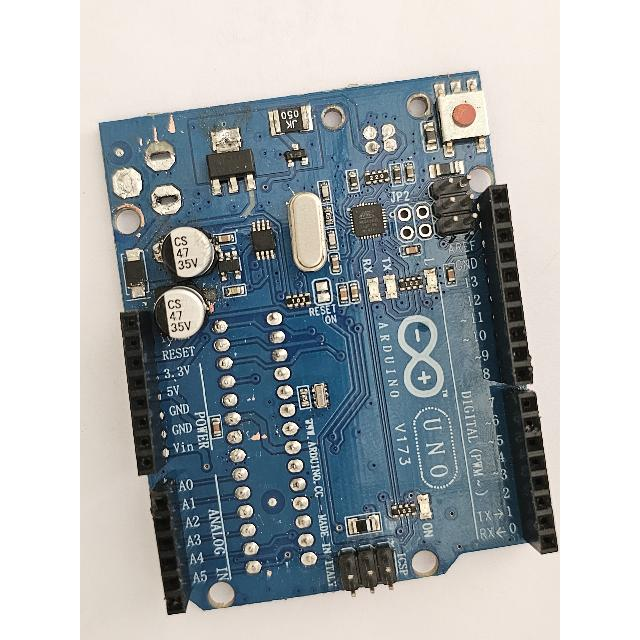missing_atmega: (208, 306, 323, 589)
missing_eps: (125, 124, 210, 235)
missing_usb: (305, 78, 423, 169)
